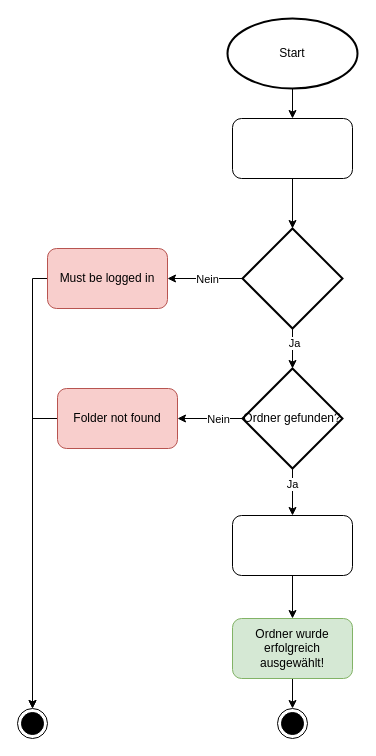
This 376x756 diagram has some shape labels left out. The centre of each missing label's shape, as x and y in pixels:
$ ccli folder [id]: the point at 292,148
Folder Id in ~/.ccli/session speichern: the point at 292,545
Session valid?: the point at 292,278
